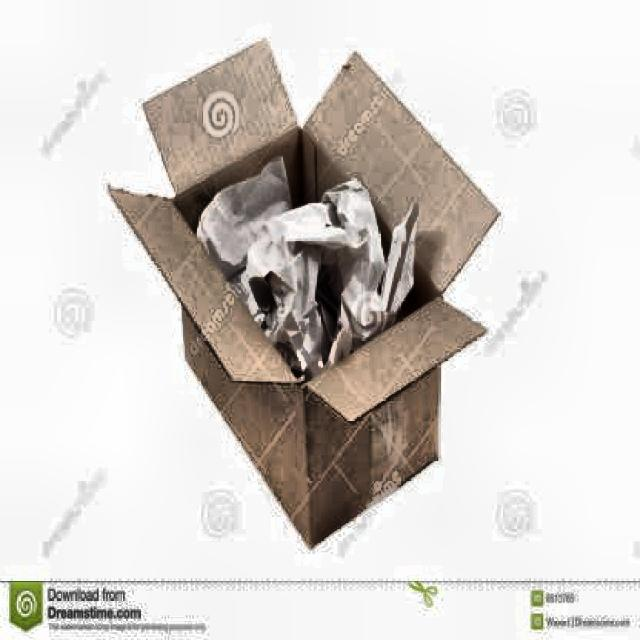Cardbox: (96, 9, 516, 557)
